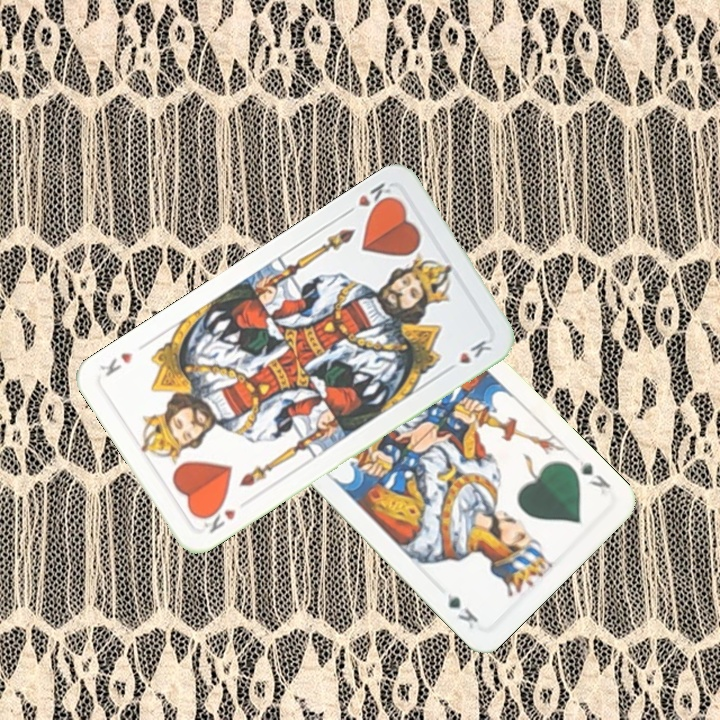GK: (573, 456, 613, 498)
HK: (340, 178, 397, 218), (196, 499, 239, 537)
